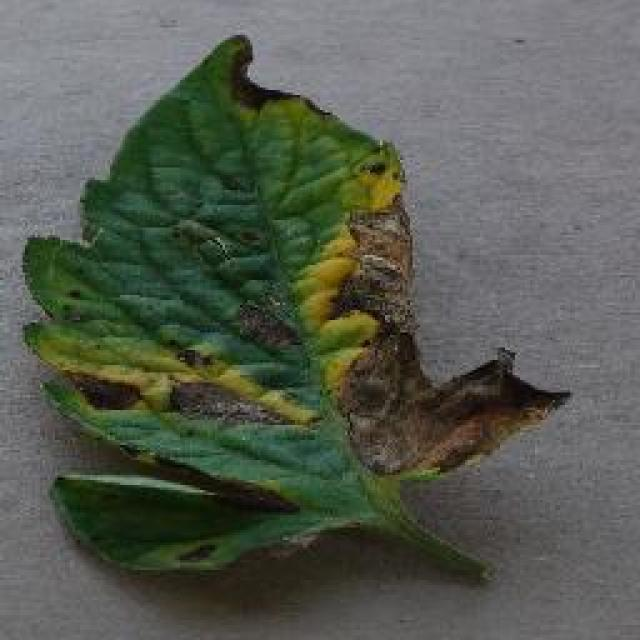Tomato Early blight leaf: (18, 30, 570, 580)
